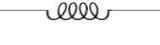inductor: (36, 0, 114, 26)
